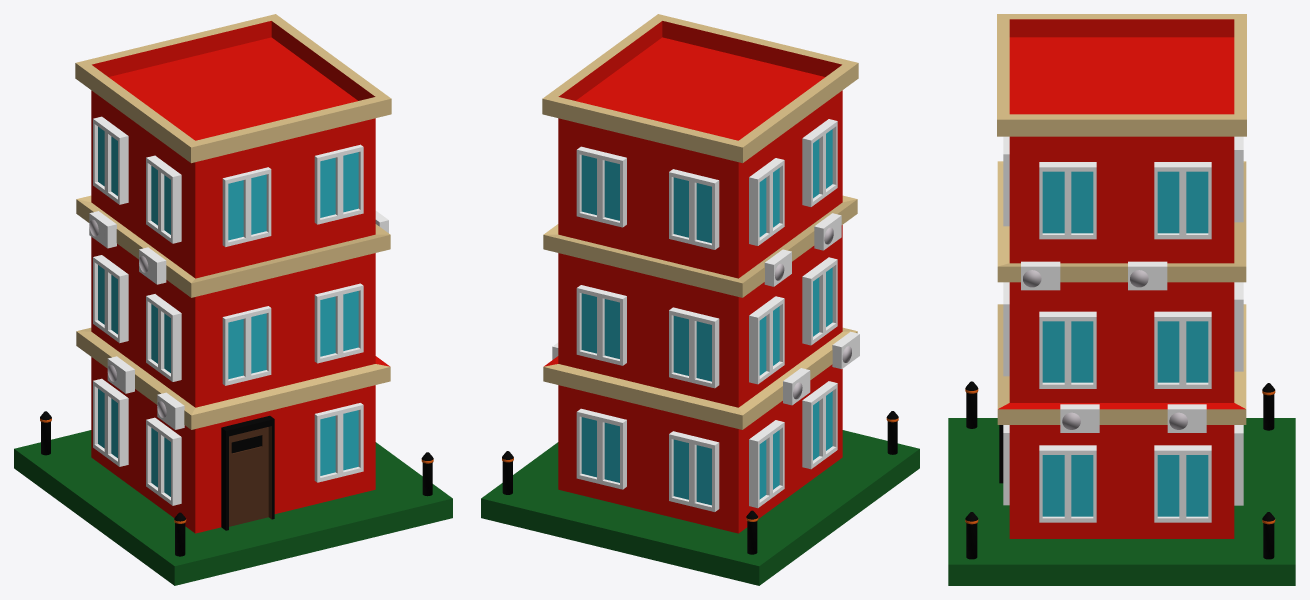
Rendered from Flat1.fbx.
3 views of the same model, side by side, from view 1: azimuth 30°, elevation 25°; view 2: azimuth 150°, elevation 25°; view 3: azimuth 270°, elevation 25° (orthographic). The views are drawn at different scales.
Visible parts, largest first — view 1: flat1; view 2: flat1; view 3: flat1.
Boxes of the visible parts, x1,y1,x2,y2 form: flat1: [14, 14, 452, 585]; flat1: [481, 14, 919, 585]; flat1: [948, 14, 1295, 585].
Size of the model in its own units: 32.58 by 46.17 by 32.58.
